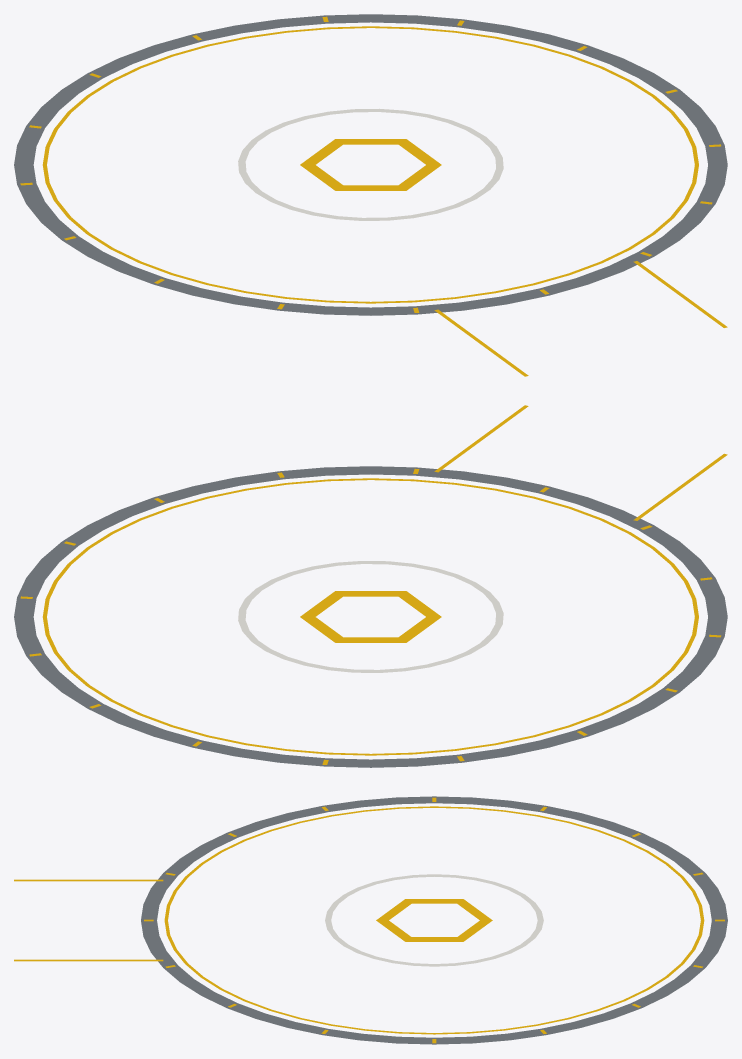
The model's file is PLAZA_FORUM_INLAY.glb.
3 views of the same model, one above another, from view 1: azimuth 30°, elevation 25°; view 2: azimuth 150°, elevation 25°; view 3: azimuth 270°, elevation 25° (orthographic). The views are drawn at different scales.
Parts seen in each view (by area): view 1: CIVRUM_GAME_PLAZA_FORUM_INLAY; view 2: CIVRUM_GAME_PLAZA_FORUM_INLAY; view 3: CIVRUM_GAME_PLAZA_FORUM_INLAY.
Boxes of the visible parts, box(x1,y1,x2,y2) form: CIVRUM_GAME_PLAZA_FORUM_INLAY: box(14, 14, 727, 376); CIVRUM_GAME_PLAZA_FORUM_INLAY: box(14, 405, 727, 767); CIVRUM_GAME_PLAZA_FORUM_INLAY: box(14, 796, 727, 1044).
Bounding box in the file's own units: 23.6 × 0.003 × 28.7.
